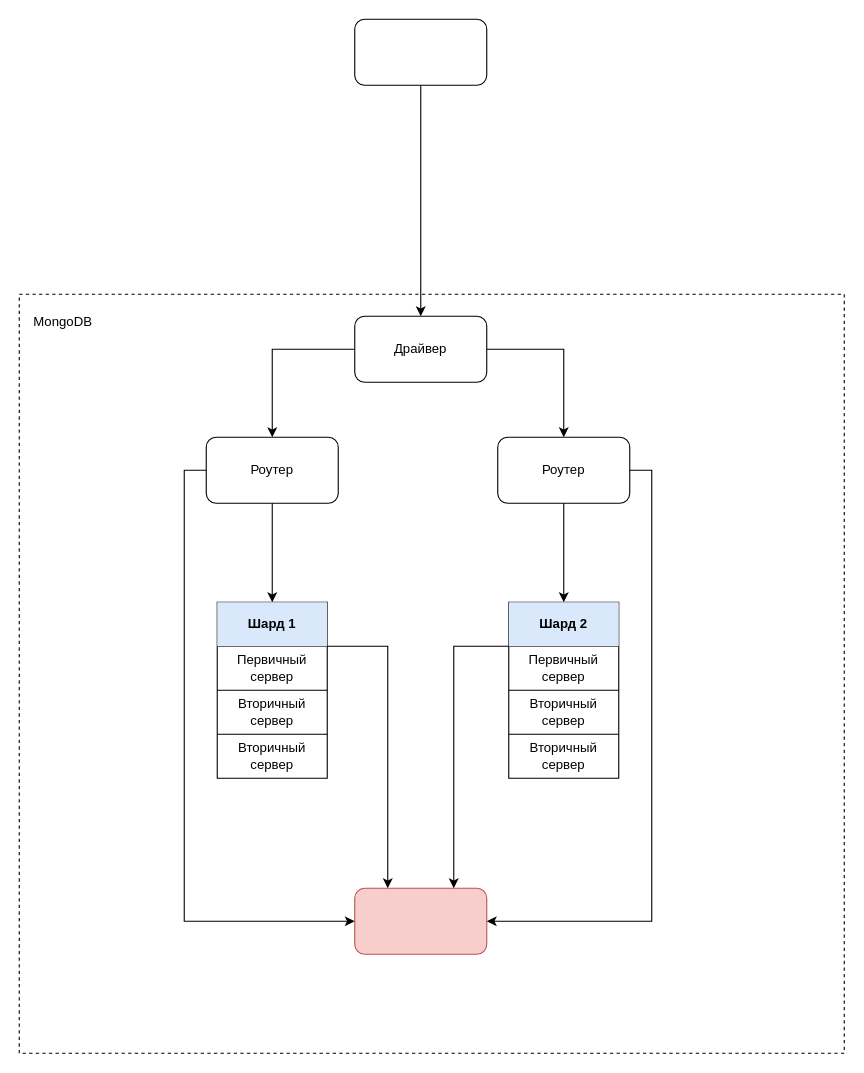
Some shapes in this 864 by 1073 pixel diagram are drawn without their labels. Here are the shapes that lost their labels. From the top down, the centre of each, then its label:
At (420,51): "pymongo-api".
At (420,920): "Конфигурационный сервер".
